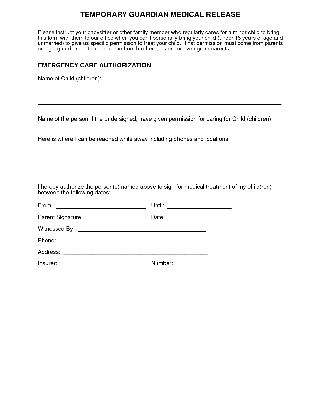textline: (33, 100, 288, 108), (102, 74, 285, 85), (35, 89, 286, 97), (61, 251, 214, 258), (76, 228, 209, 236), (58, 240, 211, 246), (58, 261, 149, 270), (54, 204, 149, 212), (84, 213, 151, 224), (174, 262, 240, 272), (166, 205, 235, 213), (165, 217, 236, 223)
